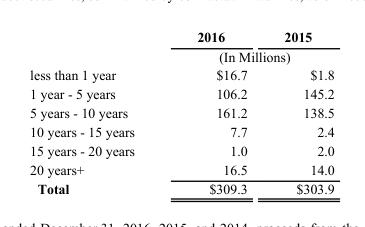table: (29, 28, 333, 196)
table column: (29, 28, 165, 196), (165, 28, 265, 196), (265, 28, 333, 196)
table column header: (29, 28, 333, 65)
table row: (29, 46, 333, 65), (29, 65, 333, 84), (29, 84, 333, 103), (29, 103, 333, 122), (29, 122, 333, 141), (29, 159, 333, 178), (29, 28, 333, 46), (29, 141, 333, 159), (29, 178, 333, 196)
table spanning cell: (165, 46, 333, 65)
